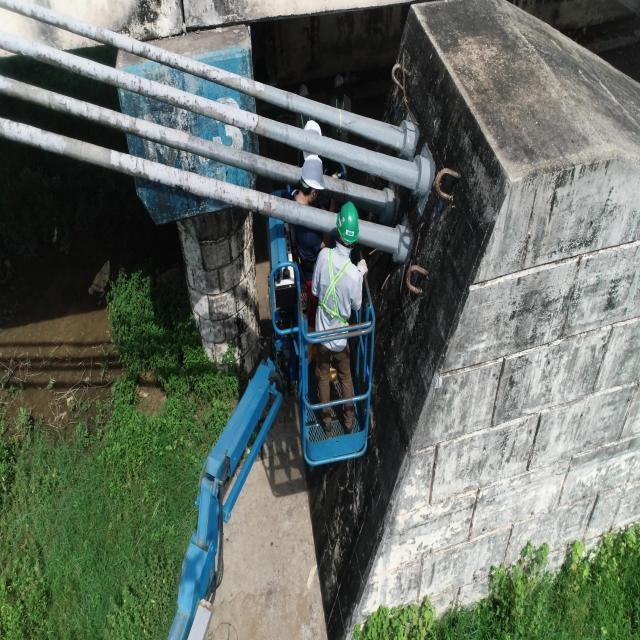crack: (134, 157, 138, 170), (80, 141, 83, 154), (291, 93, 293, 111), (48, 101, 52, 109), (257, 196, 259, 209), (142, 160, 144, 172), (132, 43, 134, 53), (186, 171, 188, 181), (232, 118, 234, 125), (140, 50, 142, 56), (243, 123, 245, 129), (250, 125, 252, 131), (145, 131, 147, 137), (165, 165, 167, 170)
